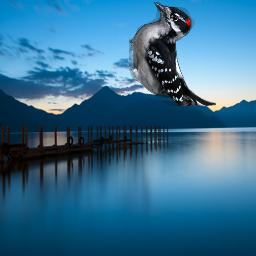Woodpecker: (129, 2, 216, 106)
